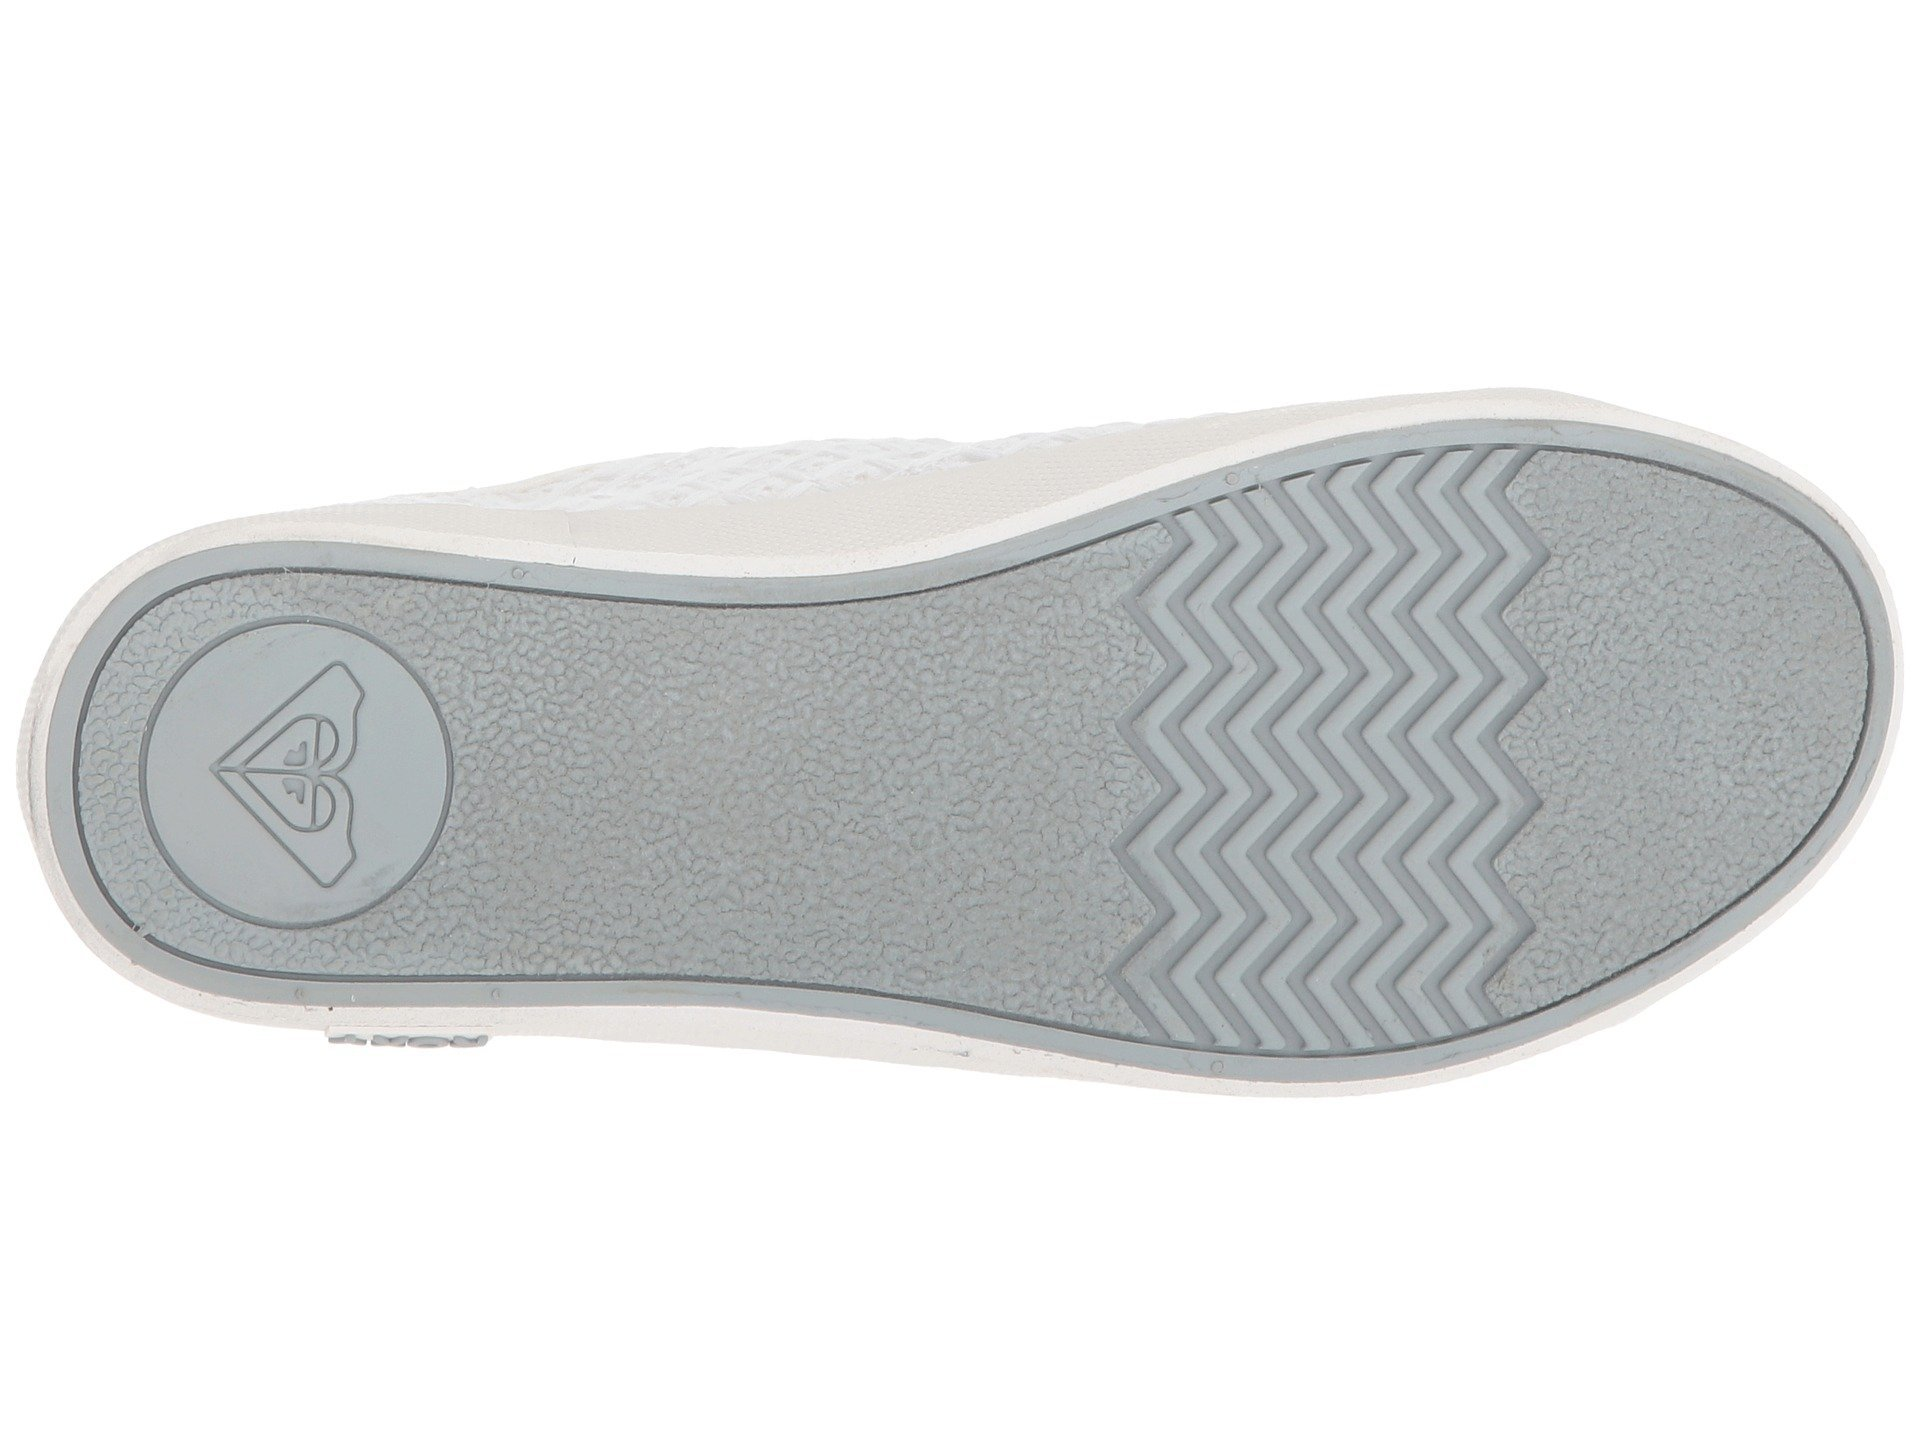chevron: (1190, 498, 1451, 1010)
circle: (141, 619, 457, 933), (484, 546, 549, 599)
line: (484, 546, 549, 599)
other: (617, 650, 1051, 917), (141, 619, 457, 933)
